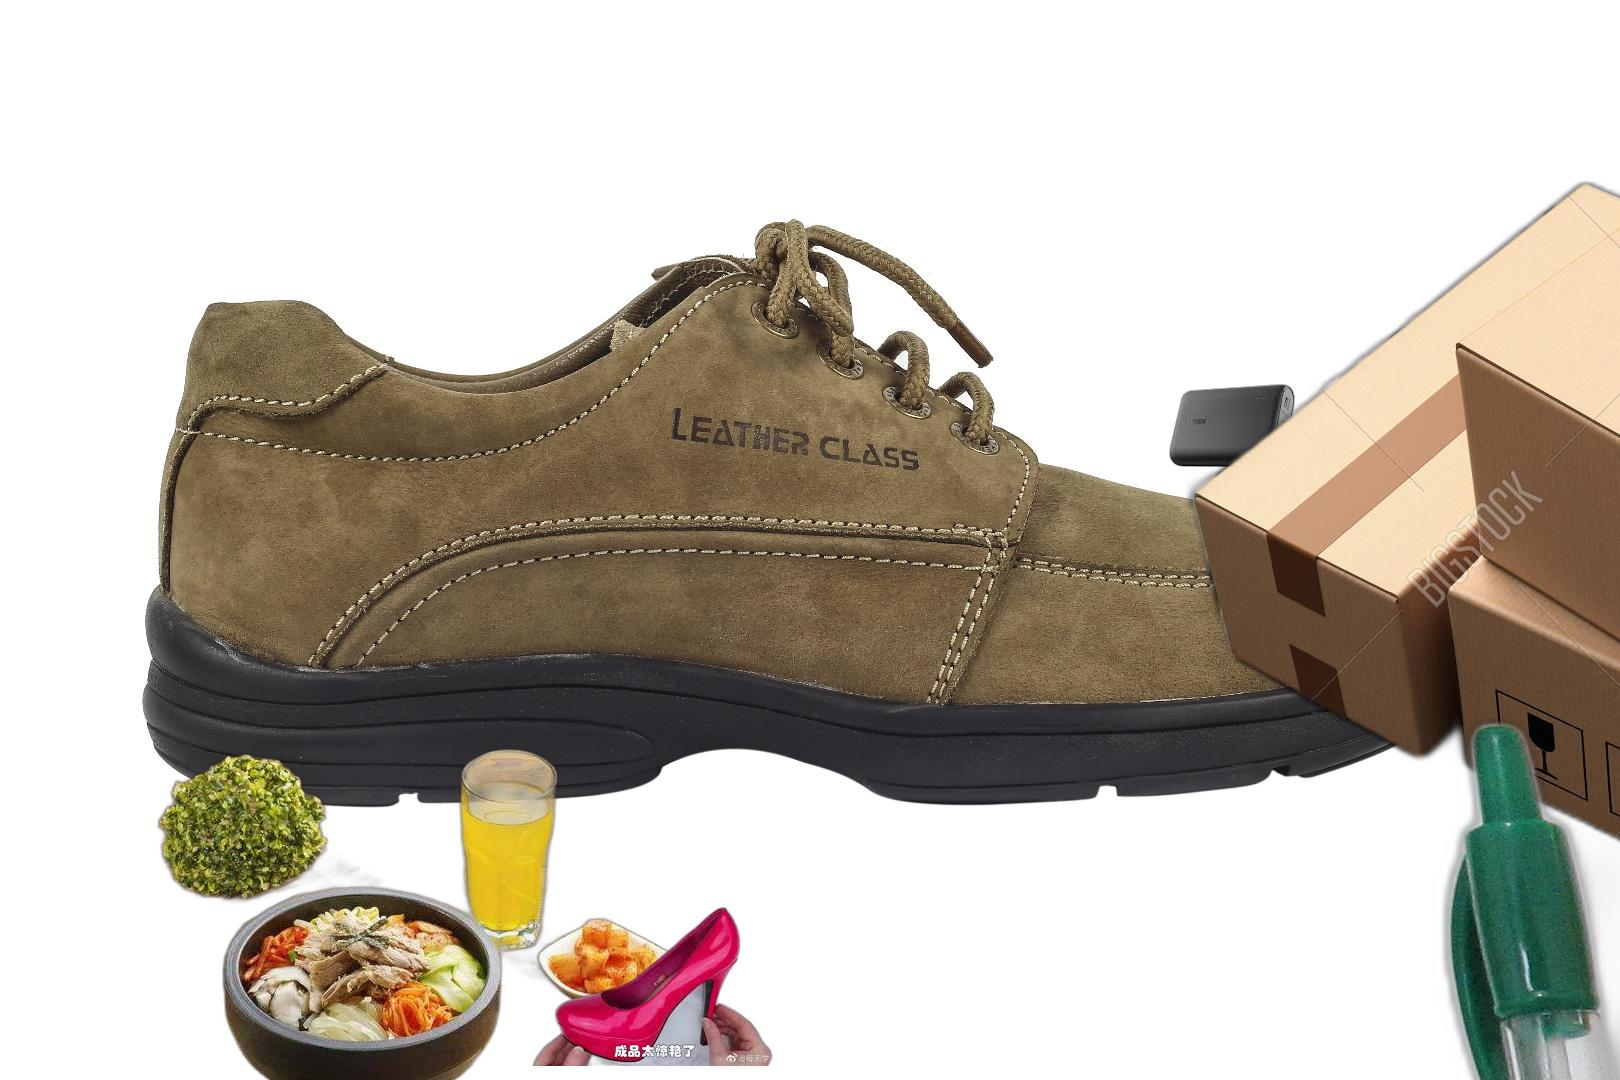battery: (1167, 382, 1297, 470)
biological: (153, 745, 681, 1080)
penholder: (1325, 708, 1620, 1080)
shoes: (530, 905, 776, 1066)
trashbox-cardboard: (1176, 93, 1620, 1064), (1468, 1012, 1620, 1080)
